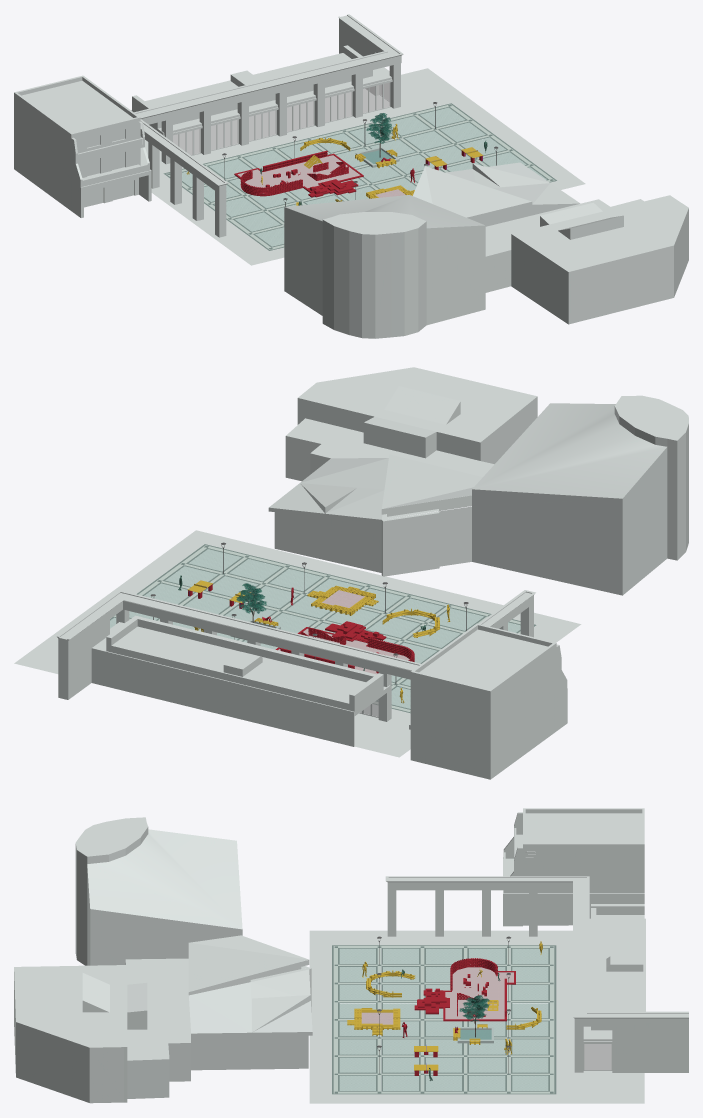
The model's file is websitemodel.glb.
The picture shows the model from 3 angles, top to bottom: view 1: azimuth 30°, elevation 25°; view 2: azimuth 150°, elevation 25°; view 3: azimuth 270°, elevation 25°; orthographic projection. The views are drawn at different scales.
Visible parts, largest first — view 1: Shape Bender Component#1, square 1 component, object 9, object 2, object 1, skpD0CF; view 2: Shape Bender Component#1, square 1 component, object 1, object 2, skpD0CF; view 3: Shape Bender Component#1, square 1 component, object 2, object 1, object 9, skpD0CF.
Boxes of the visible parts, x1,y1,x2,y2 form: Shape Bender Component#1: [14, 14, 688, 338]; square 1 component: [182, 107, 546, 246]; object 9: [173, 82, 389, 155]; object 2: [237, 155, 405, 197]; object 1: [186, 124, 483, 205]; skpD0CF: [366, 113, 393, 157]; Shape Bender Component#1: [14, 367, 688, 779]; square 1 component: [110, 549, 520, 708]; object 1: [188, 580, 450, 703]; object 2: [278, 590, 409, 674]; skpD0CF: [236, 583, 266, 622]; Shape Bender Component#1: [14, 808, 688, 1103]; square 1 component: [339, 948, 548, 1090]; object 2: [361, 967, 513, 1024]; object 1: [347, 941, 542, 1070]; object 9: [584, 1044, 611, 1070]; skpD0CF: [459, 995, 489, 1037].
Bounding box in the file's own units: 57.3 × 14.04 × 76.41.
10 materials, 10 textured.
